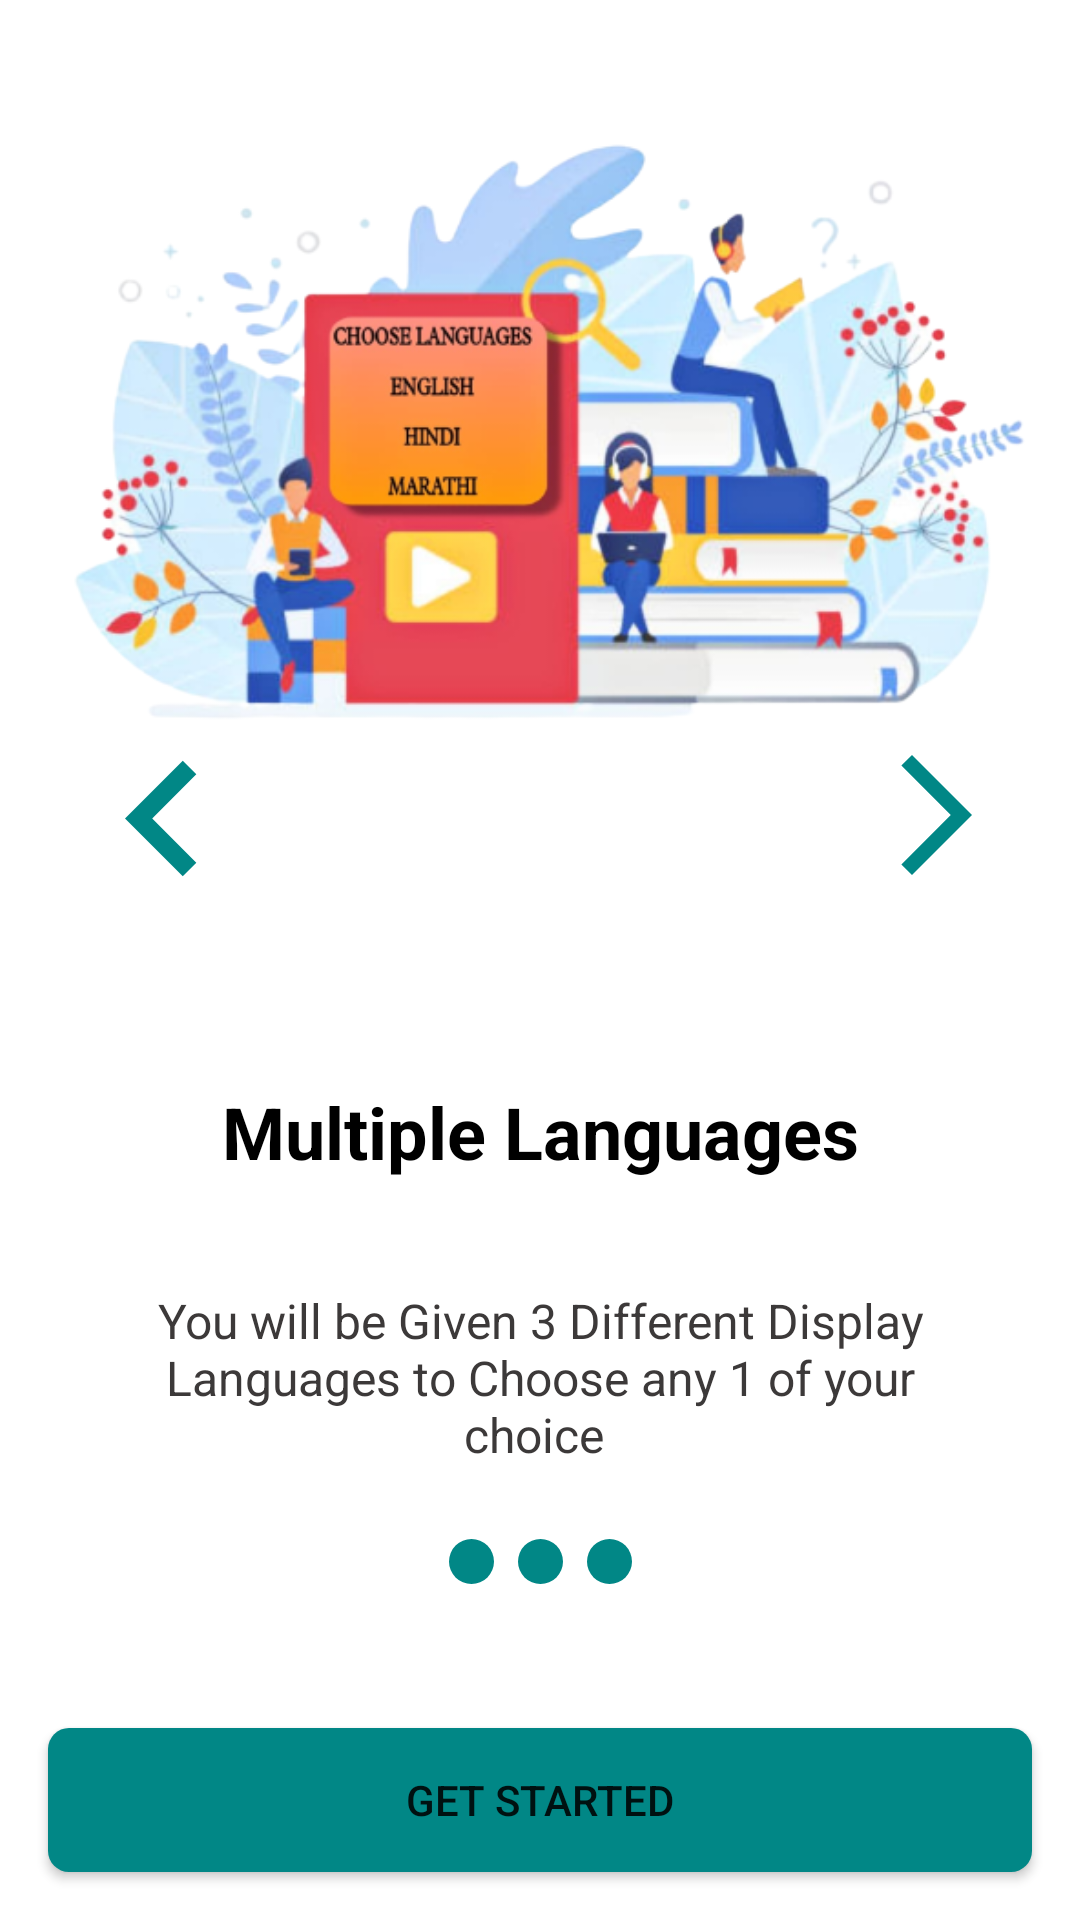

Screen size 1080×1920. Icon name, then its center in pixels as (x,y):
next: (936,815)
